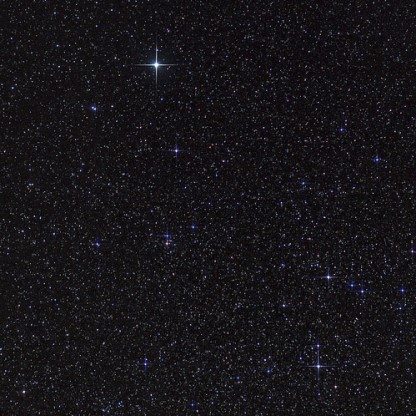Lyra: (138, 40, 176, 83), (79, 96, 103, 122), (156, 227, 180, 251), (308, 350, 328, 377), (318, 266, 337, 291), (165, 141, 188, 161)
